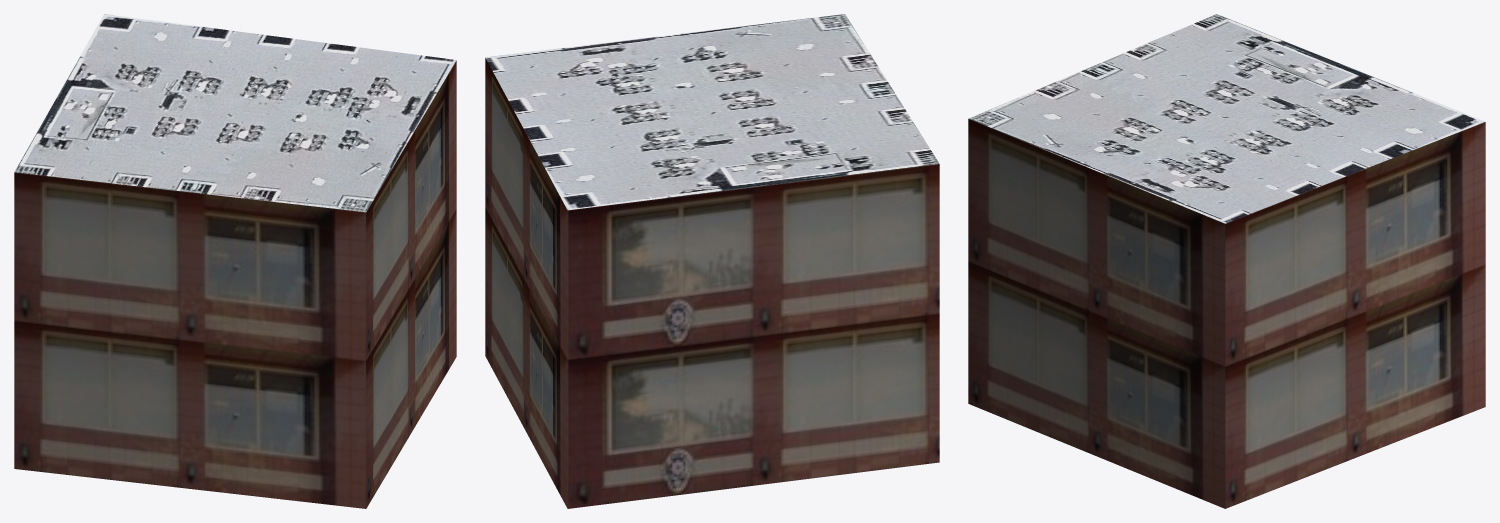
File: ResTex__2785.fbx
The picture shows the model from 3 angles, left to right: view 1: azimuth 30°, elevation 25°; view 2: azimuth 150°, elevation 25°; view 3: azimuth 270°, elevation 25°; orthographic projection. The views are drawn at different scales.
Parts seen in each view (by area): view 1: CityEngineMaterial_13_m, CityEngineMaterial_m; view 2: CityEngineMaterial_13_m, CityEngineMaterial_m; view 3: CityEngineMaterial_13_m, CityEngineMaterial_m.
Part boxes in pixels (box(x1,y1,x2,y2)): CityEngineMaterial_13_m: box(14, 61, 456, 508); CityEngineMaterial_m: box(14, 14, 456, 212); CityEngineMaterial_13_m: box(485, 58, 939, 508); CityEngineMaterial_m: box(485, 14, 939, 210); CityEngineMaterial_13_m: box(968, 118, 1485, 508); CityEngineMaterial_m: box(969, 14, 1484, 223).
Size of the model in its own units: 9.46 by 6 by 9.86.
Materials: 2 (2 with a texture image).
